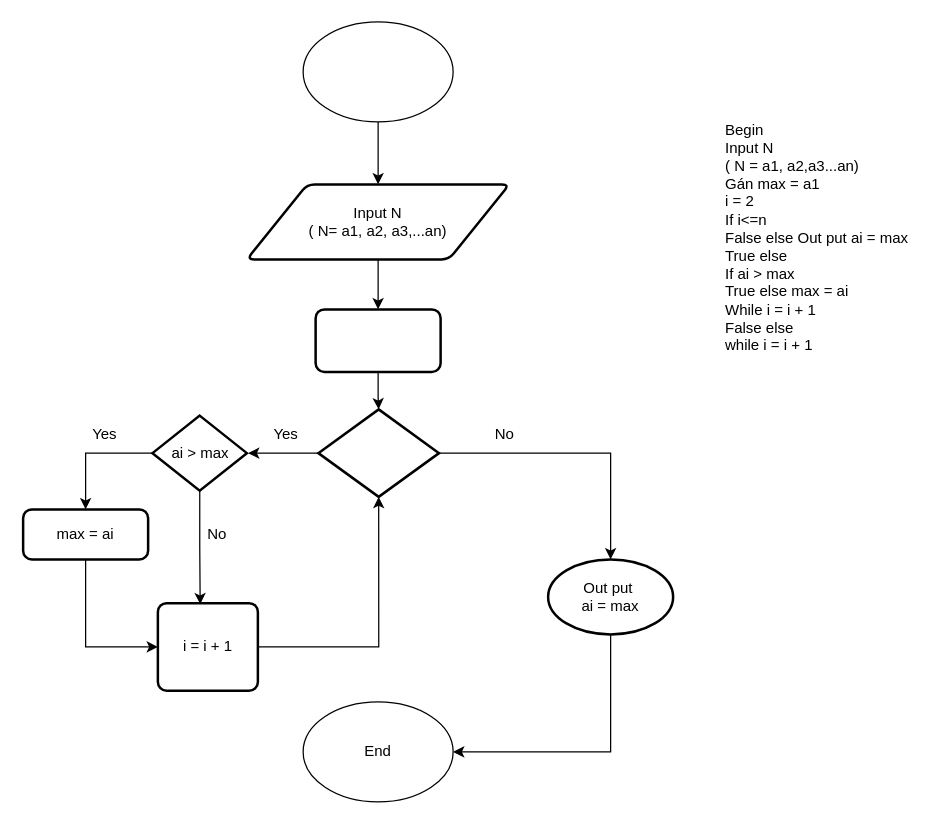
The diagram is 944 pixels wide and 824 high, and some of its shapes have lost their labels. The centre of each missing label's shape, as x and y in pixels:
"BEGIN" goes at point 377,71.
"i <= n" goes at point 378,453.
"max = a1 i = 2" goes at point 377,340.
